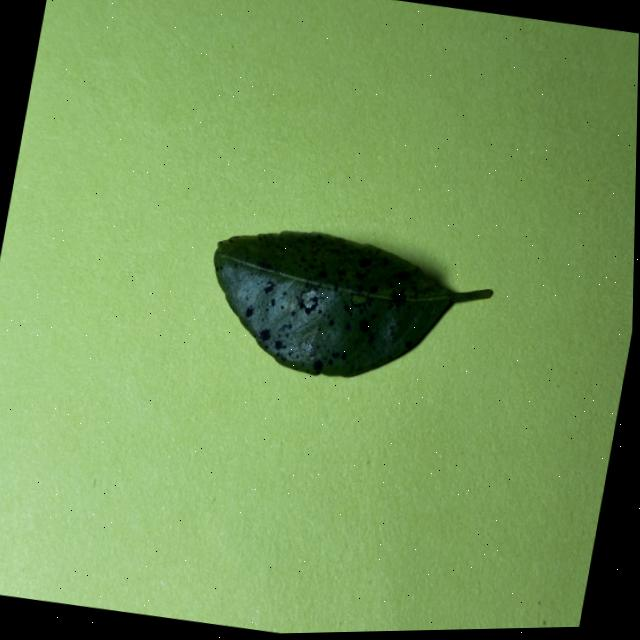sooty_mold: (214, 231, 492, 376)
